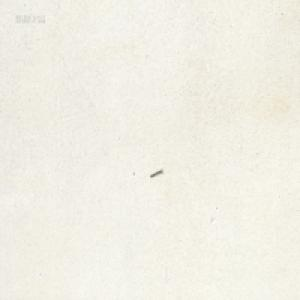Bolt: (149, 167, 162, 177)
